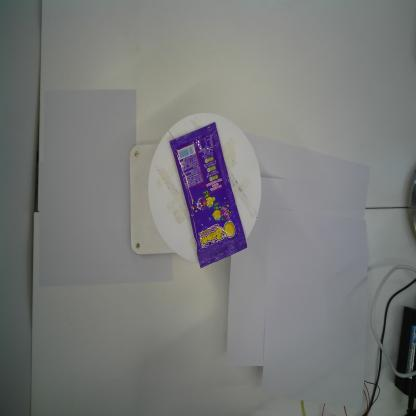Candy: (170, 121, 248, 269)
